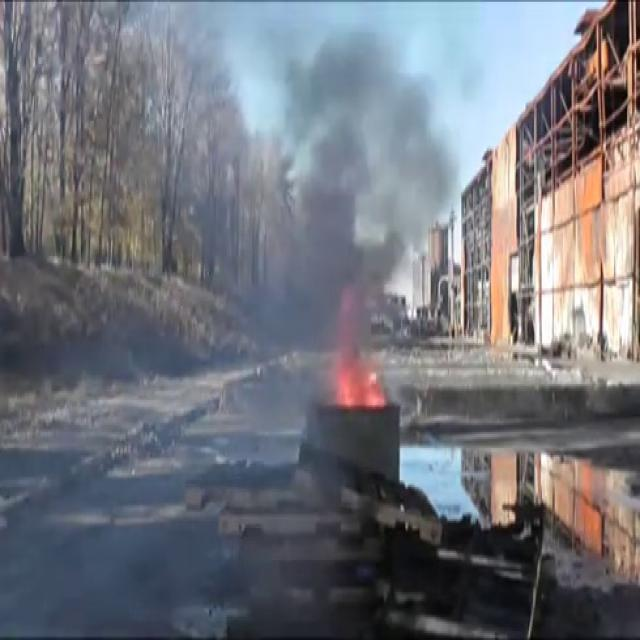Fire: (330, 343, 390, 416)
Smoke: (239, 7, 453, 391)
